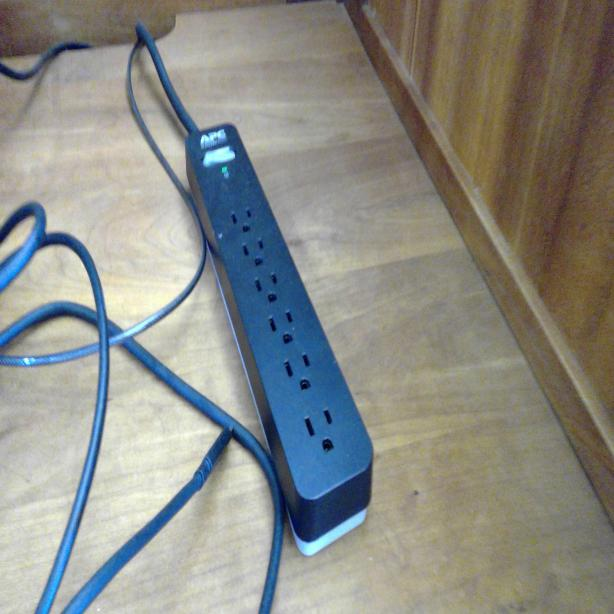typeb: (282, 349, 315, 399), (302, 410, 336, 456), (270, 306, 296, 353), (229, 195, 255, 236), (253, 269, 281, 307), (242, 236, 268, 269)
